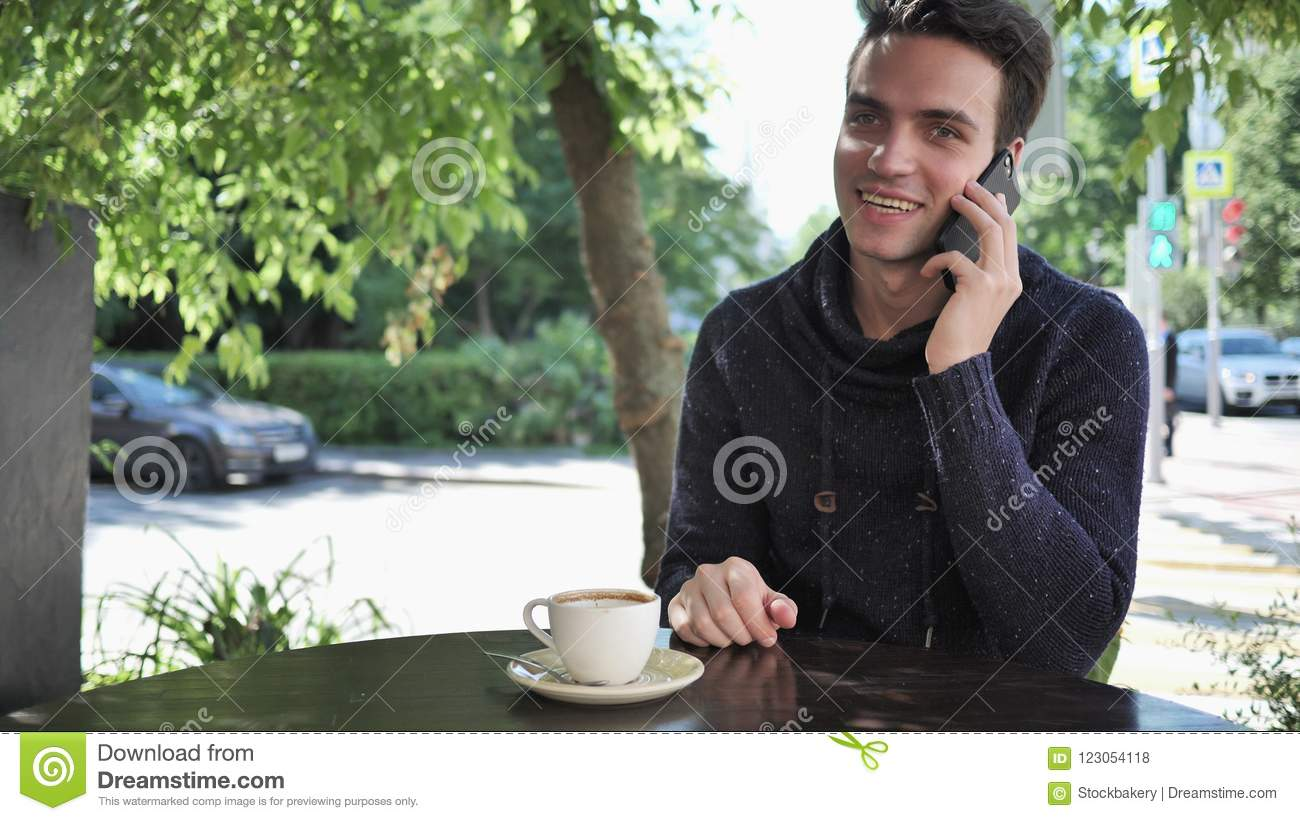phone: (936, 145, 1019, 302)
talk: (829, 81, 1020, 361)
